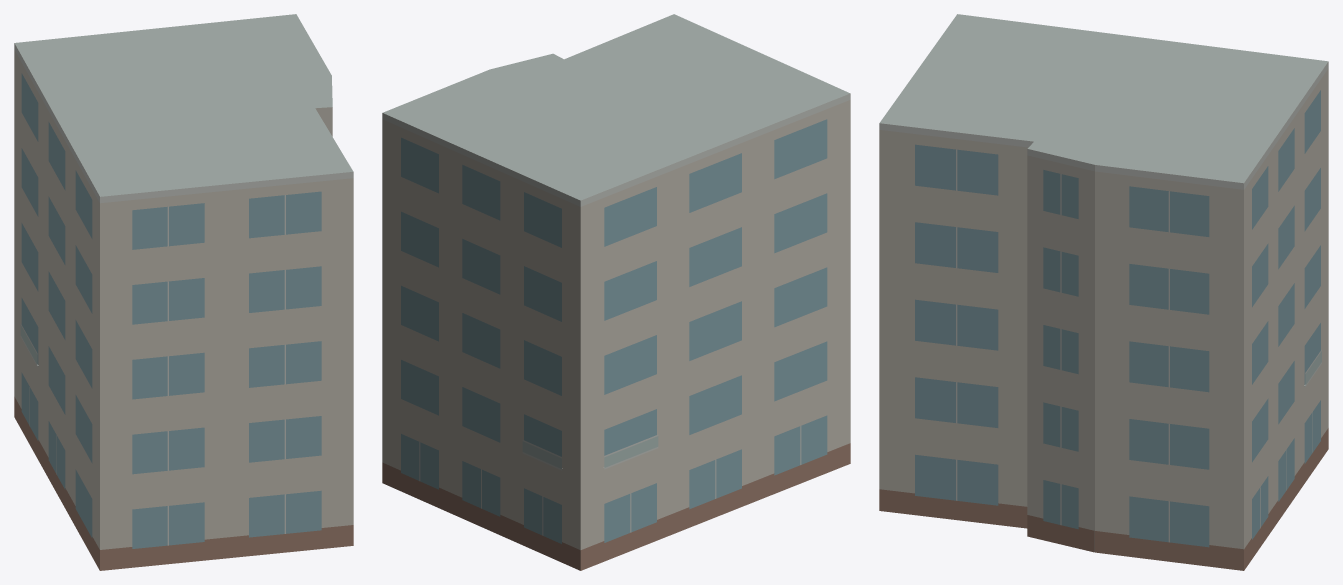
File: survey-upis-32518851.glb
The picture shows the model from 3 angles, left to right: view 1: azimuth 30°, elevation 25°; view 2: azimuth 150°, elevation 25°; view 3: azimuth 270°, elevation 25°; orthographic projection. The views are drawn at different scales.
Parts seen in each view (by area): view 1: survey-upis-32518851.tmp; view 2: survey-upis-32518851.tmp; view 3: survey-upis-32518851.tmp.
Part boxes in pixels (x1=…): survey-upis-32518851.tmp: x1=14, y1=14, x2=353, y2=570; survey-upis-32518851.tmp: x1=382, y1=14, x2=850, y2=570; survey-upis-32518851.tmp: x1=879, y1=14, x2=1328, y2=570.
Size of the model in its own units: 13.4 by 14.3 by 15.03.
